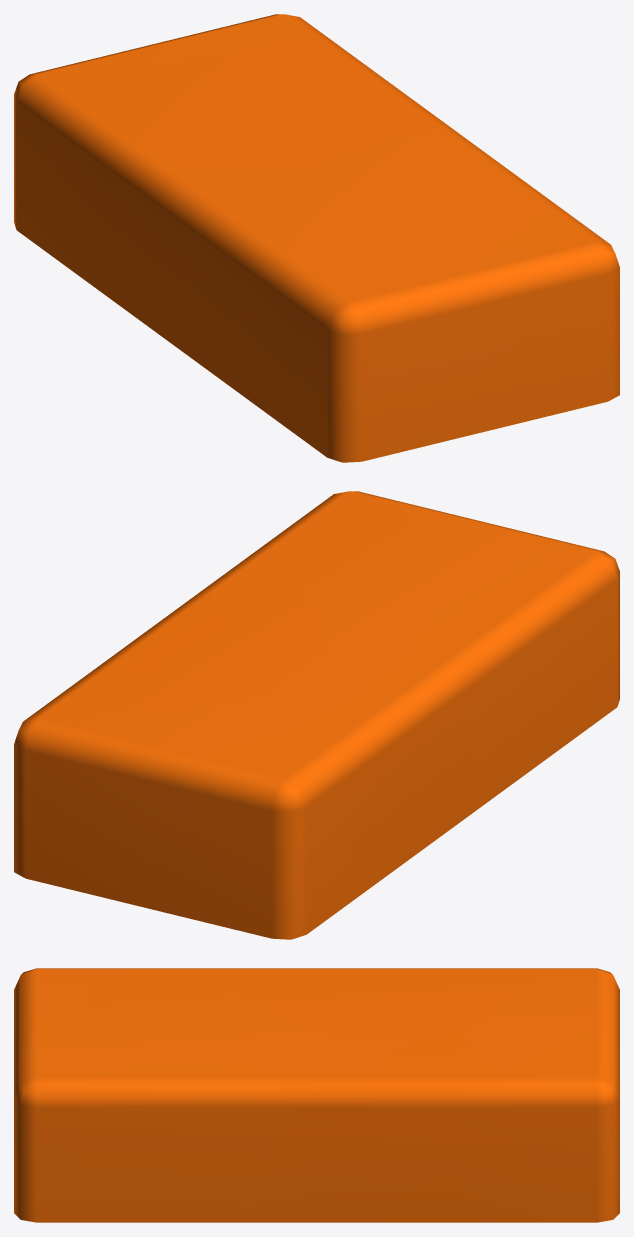
3 views of the same model, one above another, from view 1: azimuth 30°, elevation 25°; view 2: azimuth 150°, elevation 25°; view 3: azimuth 270°, elevation 25° (orthographic). The views are drawn at different scales.
Parts seen in each view (by area): view 1: base_01; view 2: base_01; view 3: base_01.
Part boxes in pixels (x1,y1,x2,y2): base_01: [14, 14, 619, 462]; base_01: [14, 491, 619, 939]; base_01: [14, 968, 619, 1222].
Bounding box in the file's own units: 750 × 372 × 1507.
